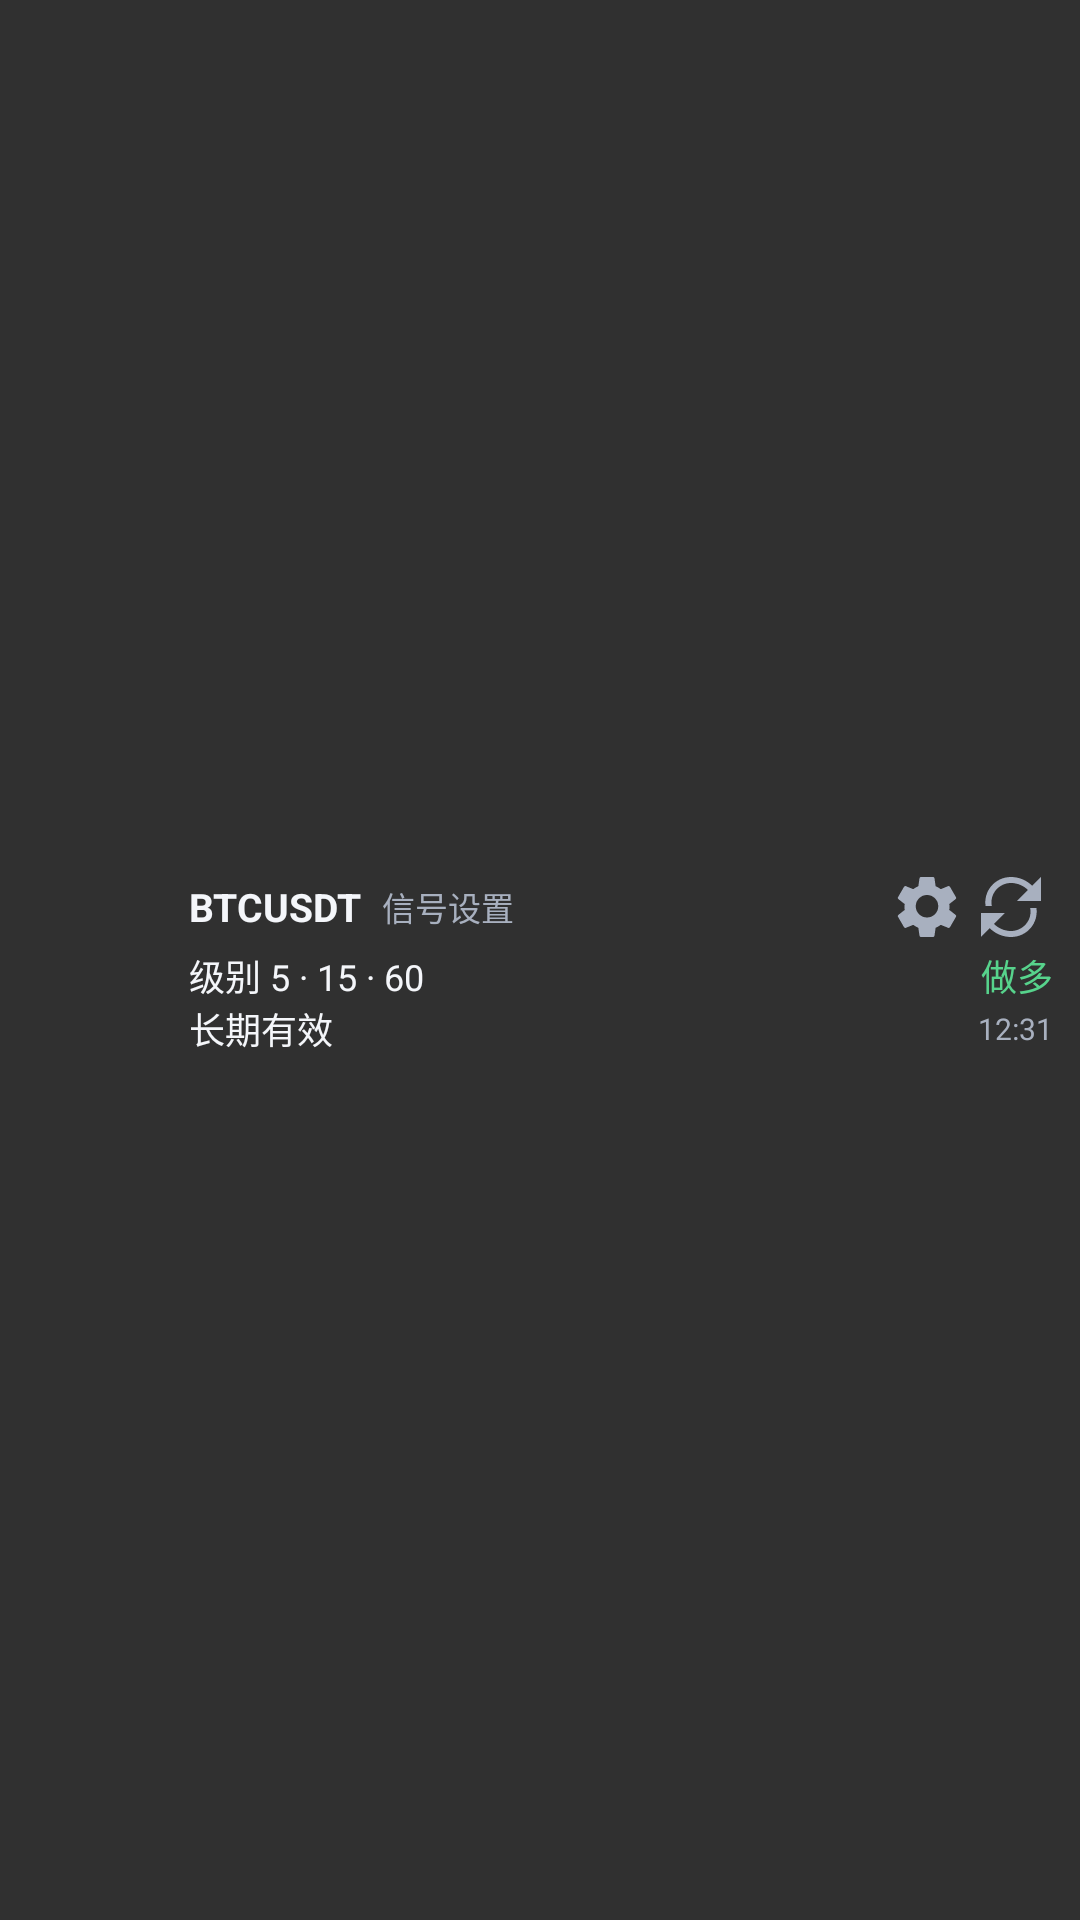

Where icons sit on this 1080px x 1920px app screen, as (x1, y1, x2, y2):
刷新信号: (981, 877, 1041, 937)
编辑小组件: (898, 877, 956, 937)
